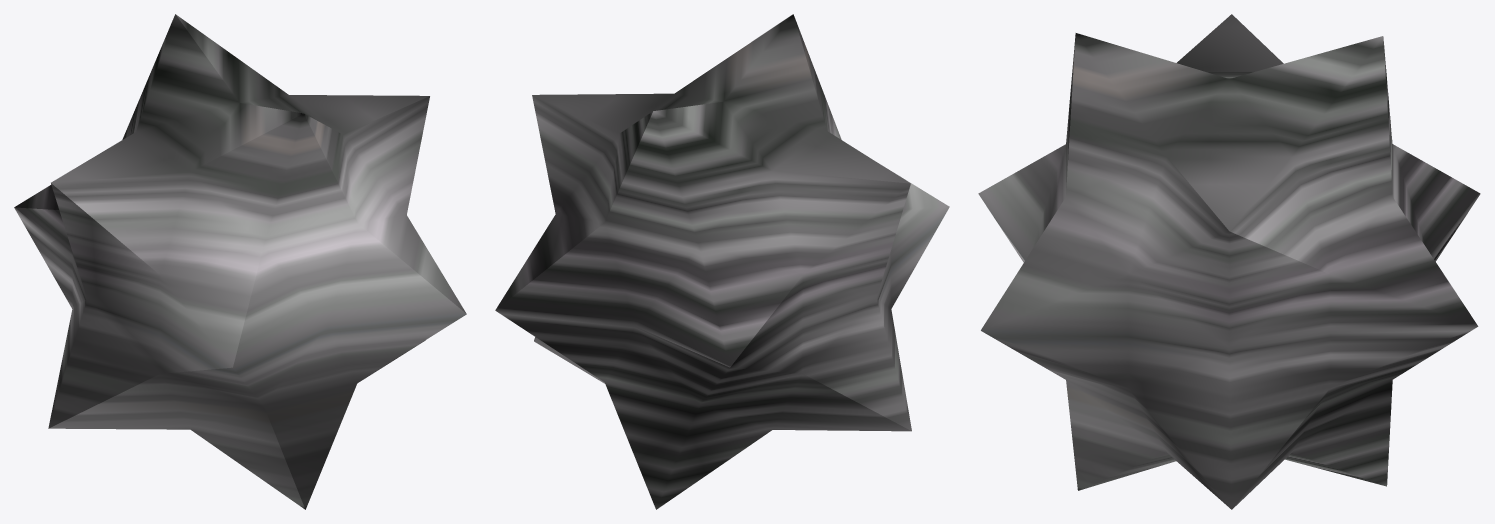
File: WARTSTONE.fbx
3 views of the same model, side by side, from view 1: azimuth 30°, elevation 25°; view 2: azimuth 150°, elevation 25°; view 3: azimuth 270°, elevation 25° (orthographic). The views are drawn at different scales.
Visible parts, largest first — view 1: WARTSTONE; view 2: WARTSTONE; view 3: WARTSTONE.
Part boxes in pixels (bbox=[...]): WARTSTONE: bbox=[14, 14, 466, 509]; WARTSTONE: bbox=[495, 14, 949, 509]; WARTSTONE: bbox=[978, 14, 1480, 509].
Bounding box in the file's own units: 2671 × 2671 × 2663.
1 material, 1 textured.
